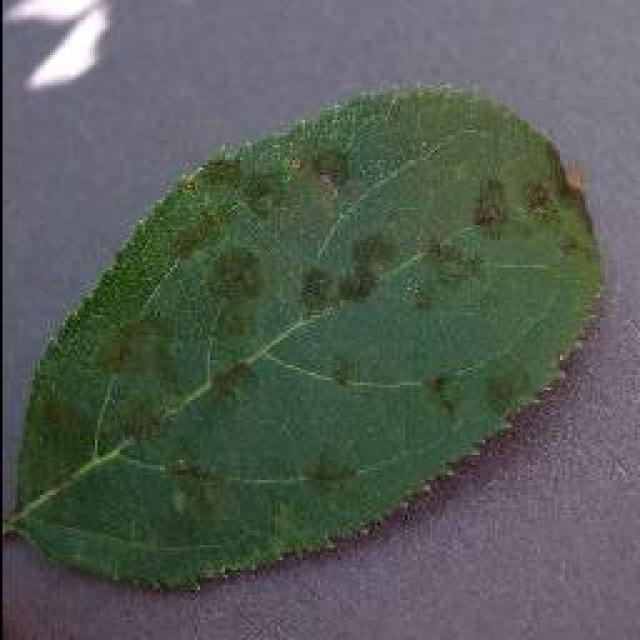apple scab disease: (5, 80, 605, 592)
